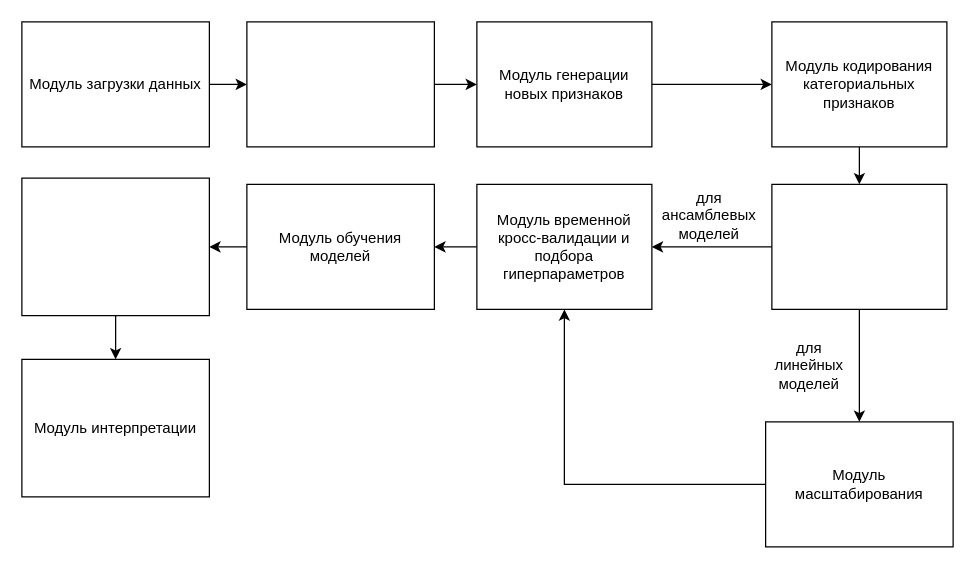
Some shapes in this 975 by 569 pixel diagram are drawn without their labels. The shapes that lost their labels are listed below. From the top down, each one's centre as x and y in pixels, then its label:
[340,84]: Модуль предобработки данных
[115,246]: Модуль оценки качества
[859,246]: Модуль разделения данных (train/test)
